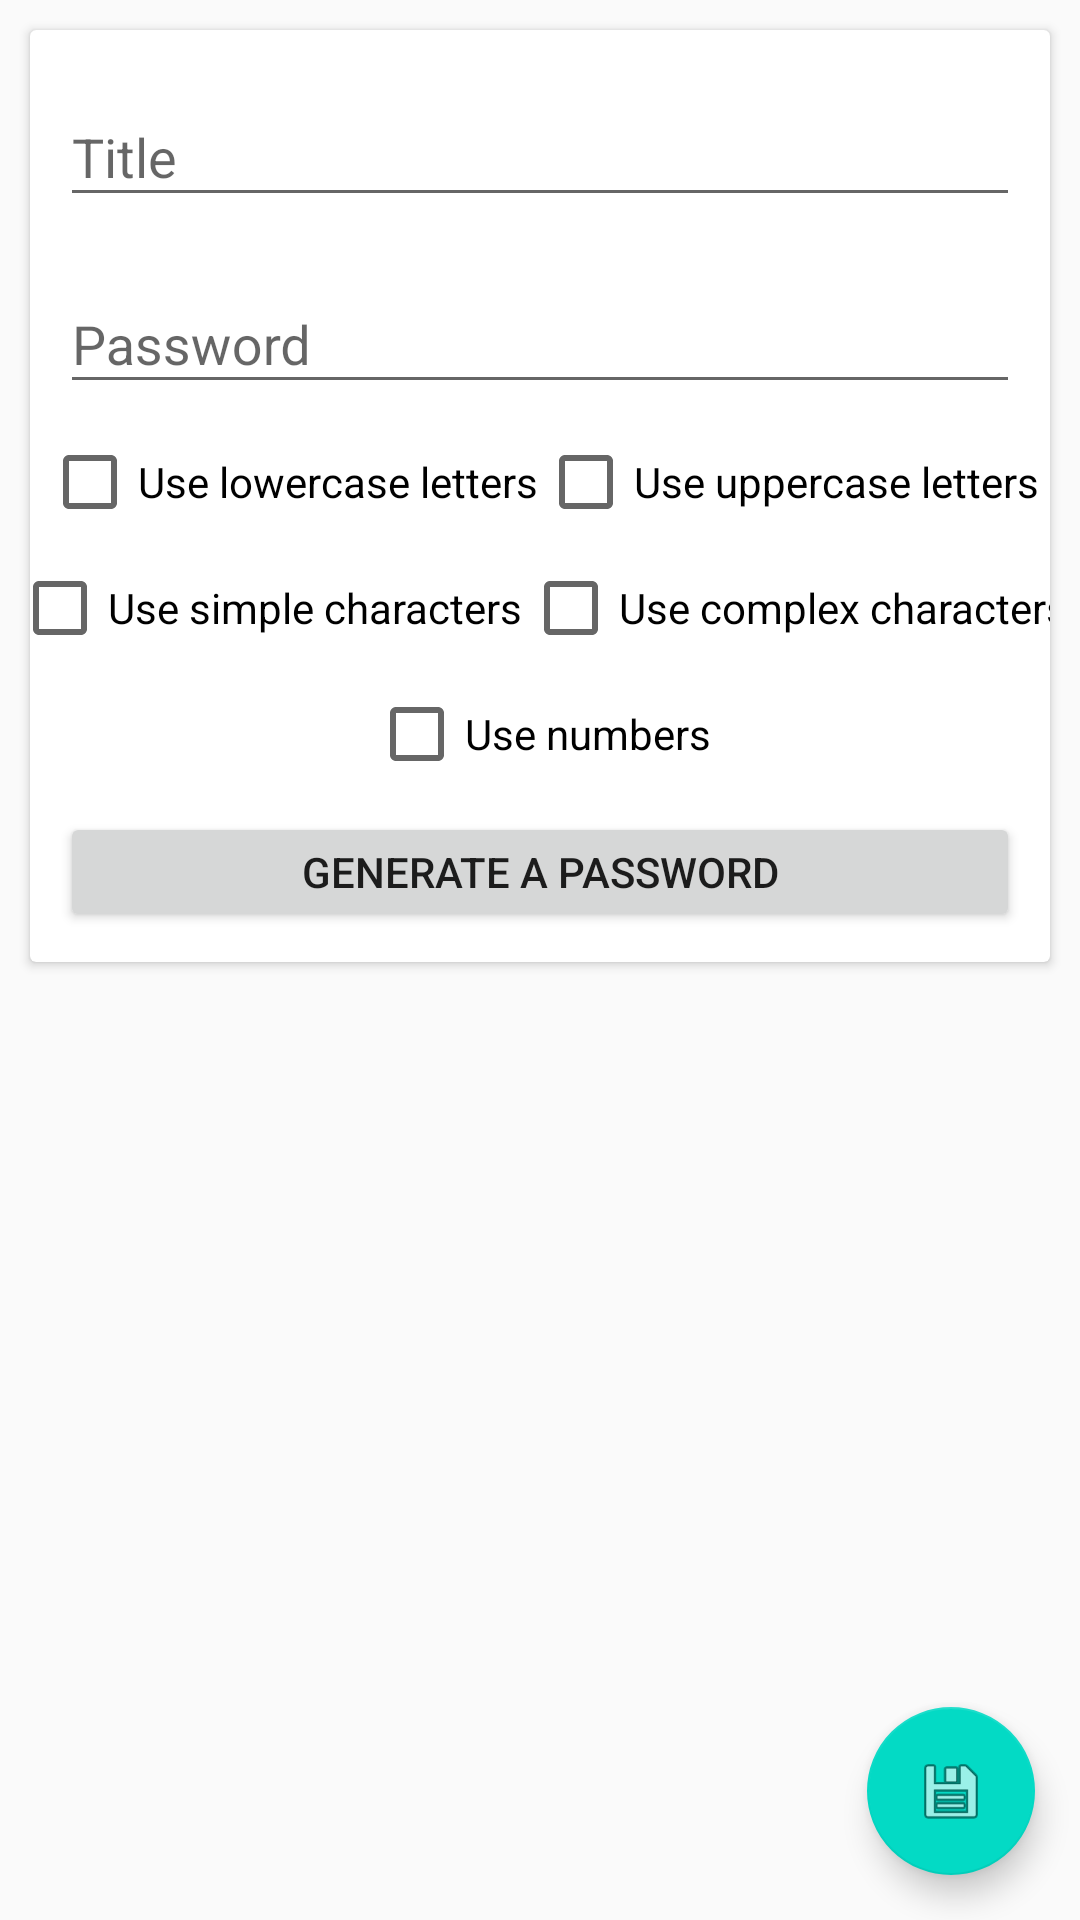

Screen size 1080×1920. Icon name, then its box in pixels as (x1, y1, x2, y2):
save: (867, 1707, 1035, 1875)
